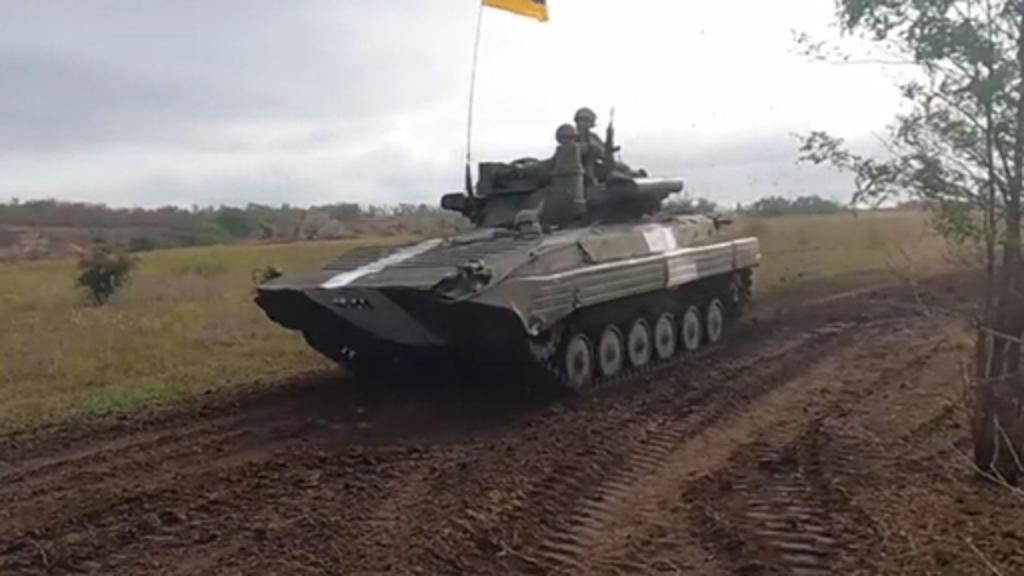APC-IFV: (238, 100, 762, 382)
